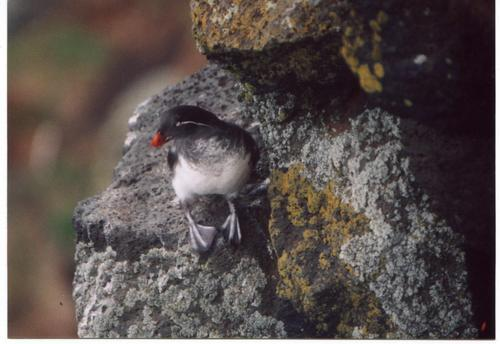007.Parakeet_Auklet: (149, 104, 267, 251)
